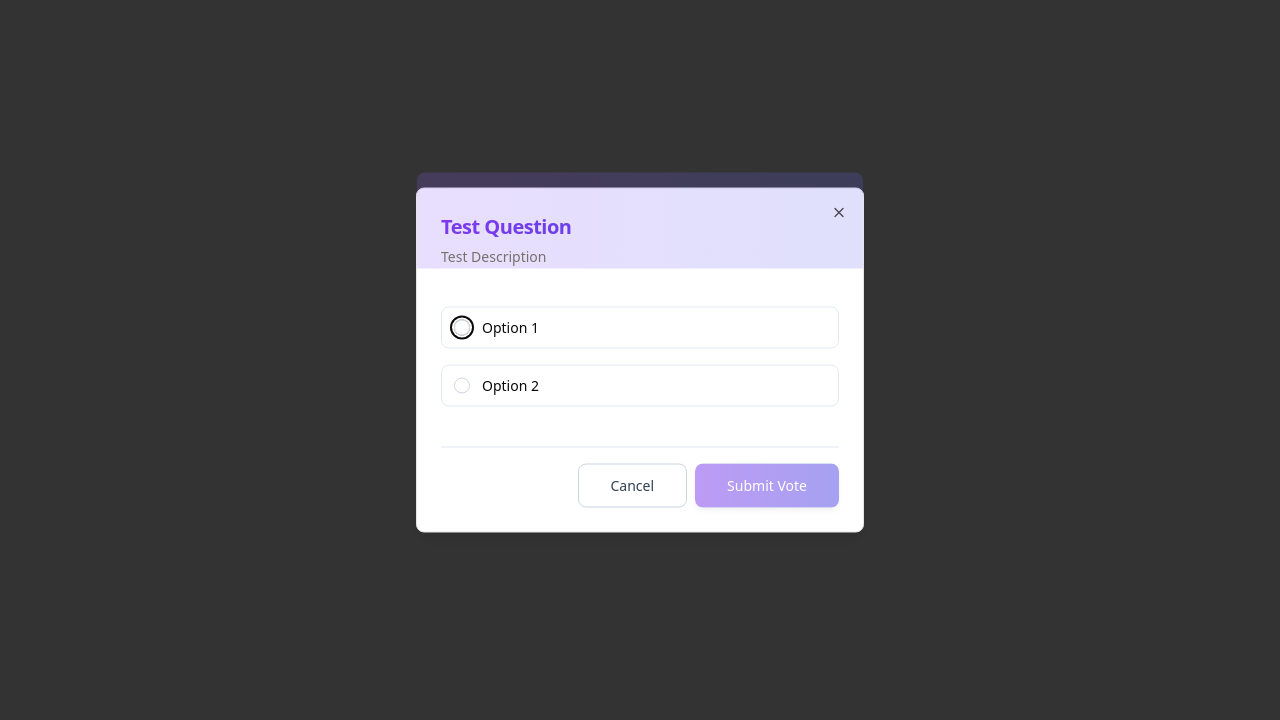
Scenario: VoteModal › should allow selecting an option before voting
The image size is (1280, 720).
Expected: the button "Submit Vote" is disabled, [695,464,839,508]
// Select Option 1
Click the radio button named "Option 1" next to "Option 1": click(462, 328) [454,320,470,336]
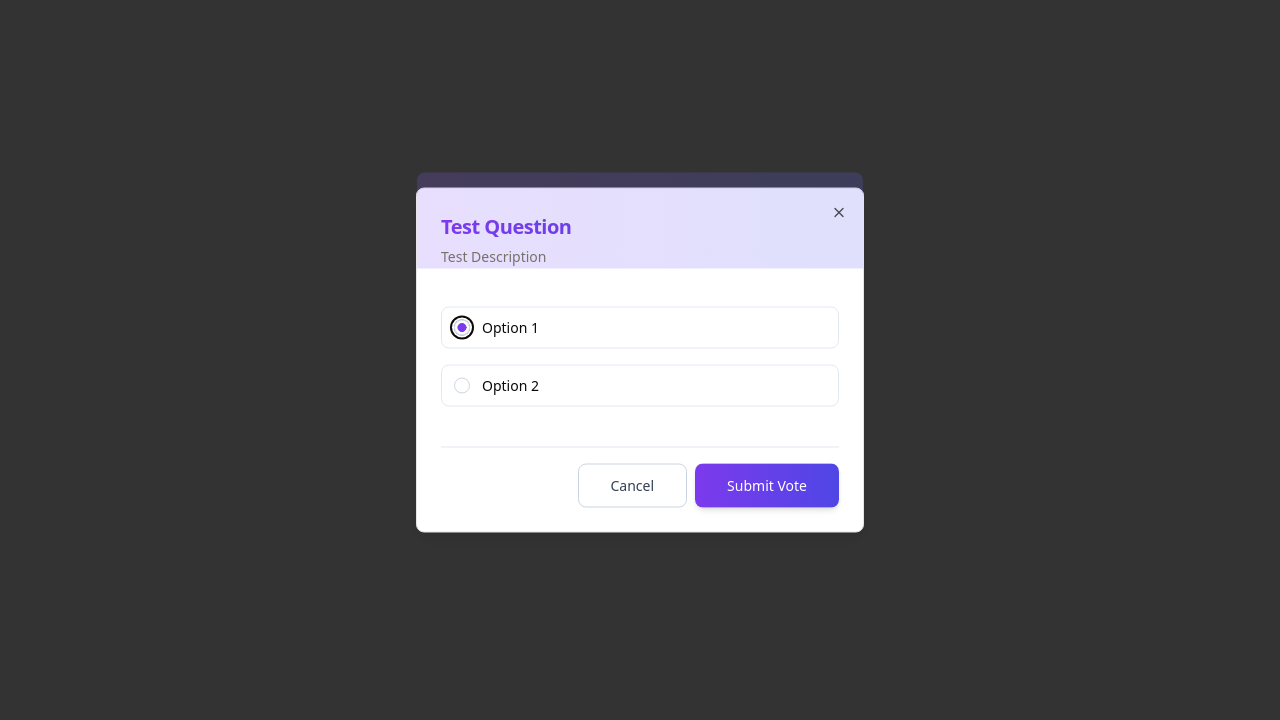
Result: the button "Submit Vote" is enabled at [695,464,839,508]
